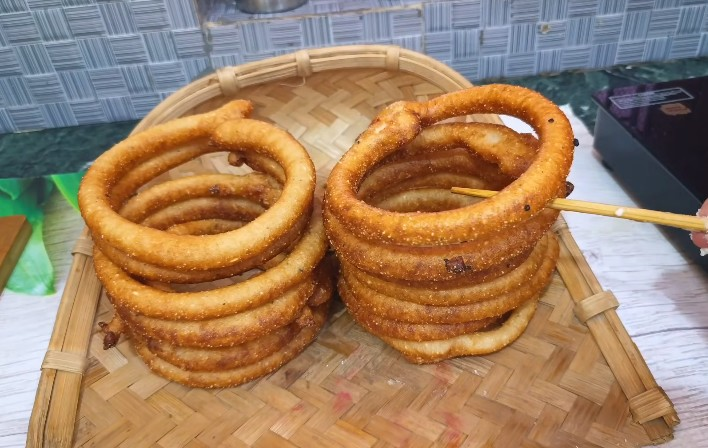sel_roti: (333, 83, 576, 245), (78, 111, 316, 270)
